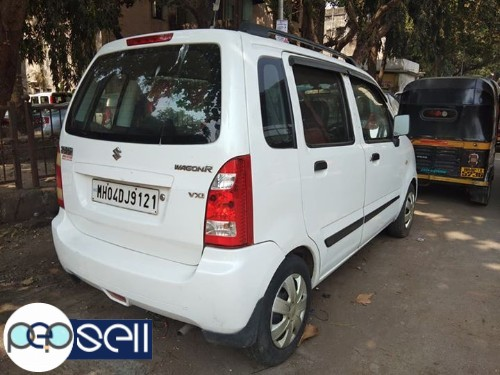autorickshaw: (411, 65, 498, 213)
car: (46, 25, 423, 373)
